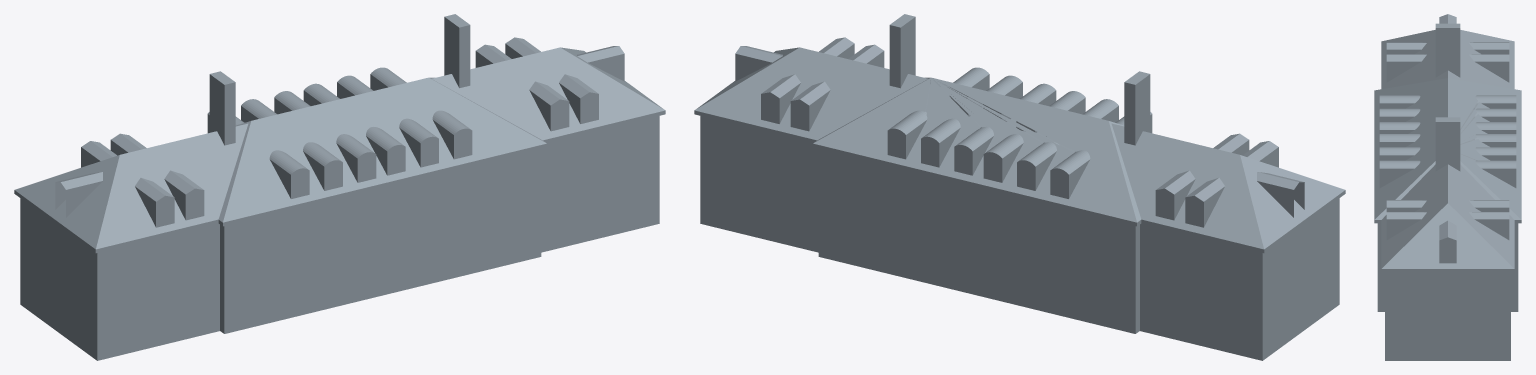
Rendered from barton.glb.
3 renders of one model, left to right at view 1: azimuth 30°, elevation 25°; view 2: azimuth 150°, elevation 25°; view 3: azimuth 270°, elevation 25°, orthographic. The views are drawn at different scales.
Visible parts, largest first — view 1: barton.003; view 2: barton.003; view 3: barton.003.
Boxes of the visible parts, x1=… form: barton.003: x1=14, y1=14, x2=665, y2=360; barton.003: x1=694, y1=14, x2=1345, y2=360; barton.003: x1=1374, y1=14, x2=1521, y2=360.
Size of the model in its own units: 1941 by 699 by 531.
